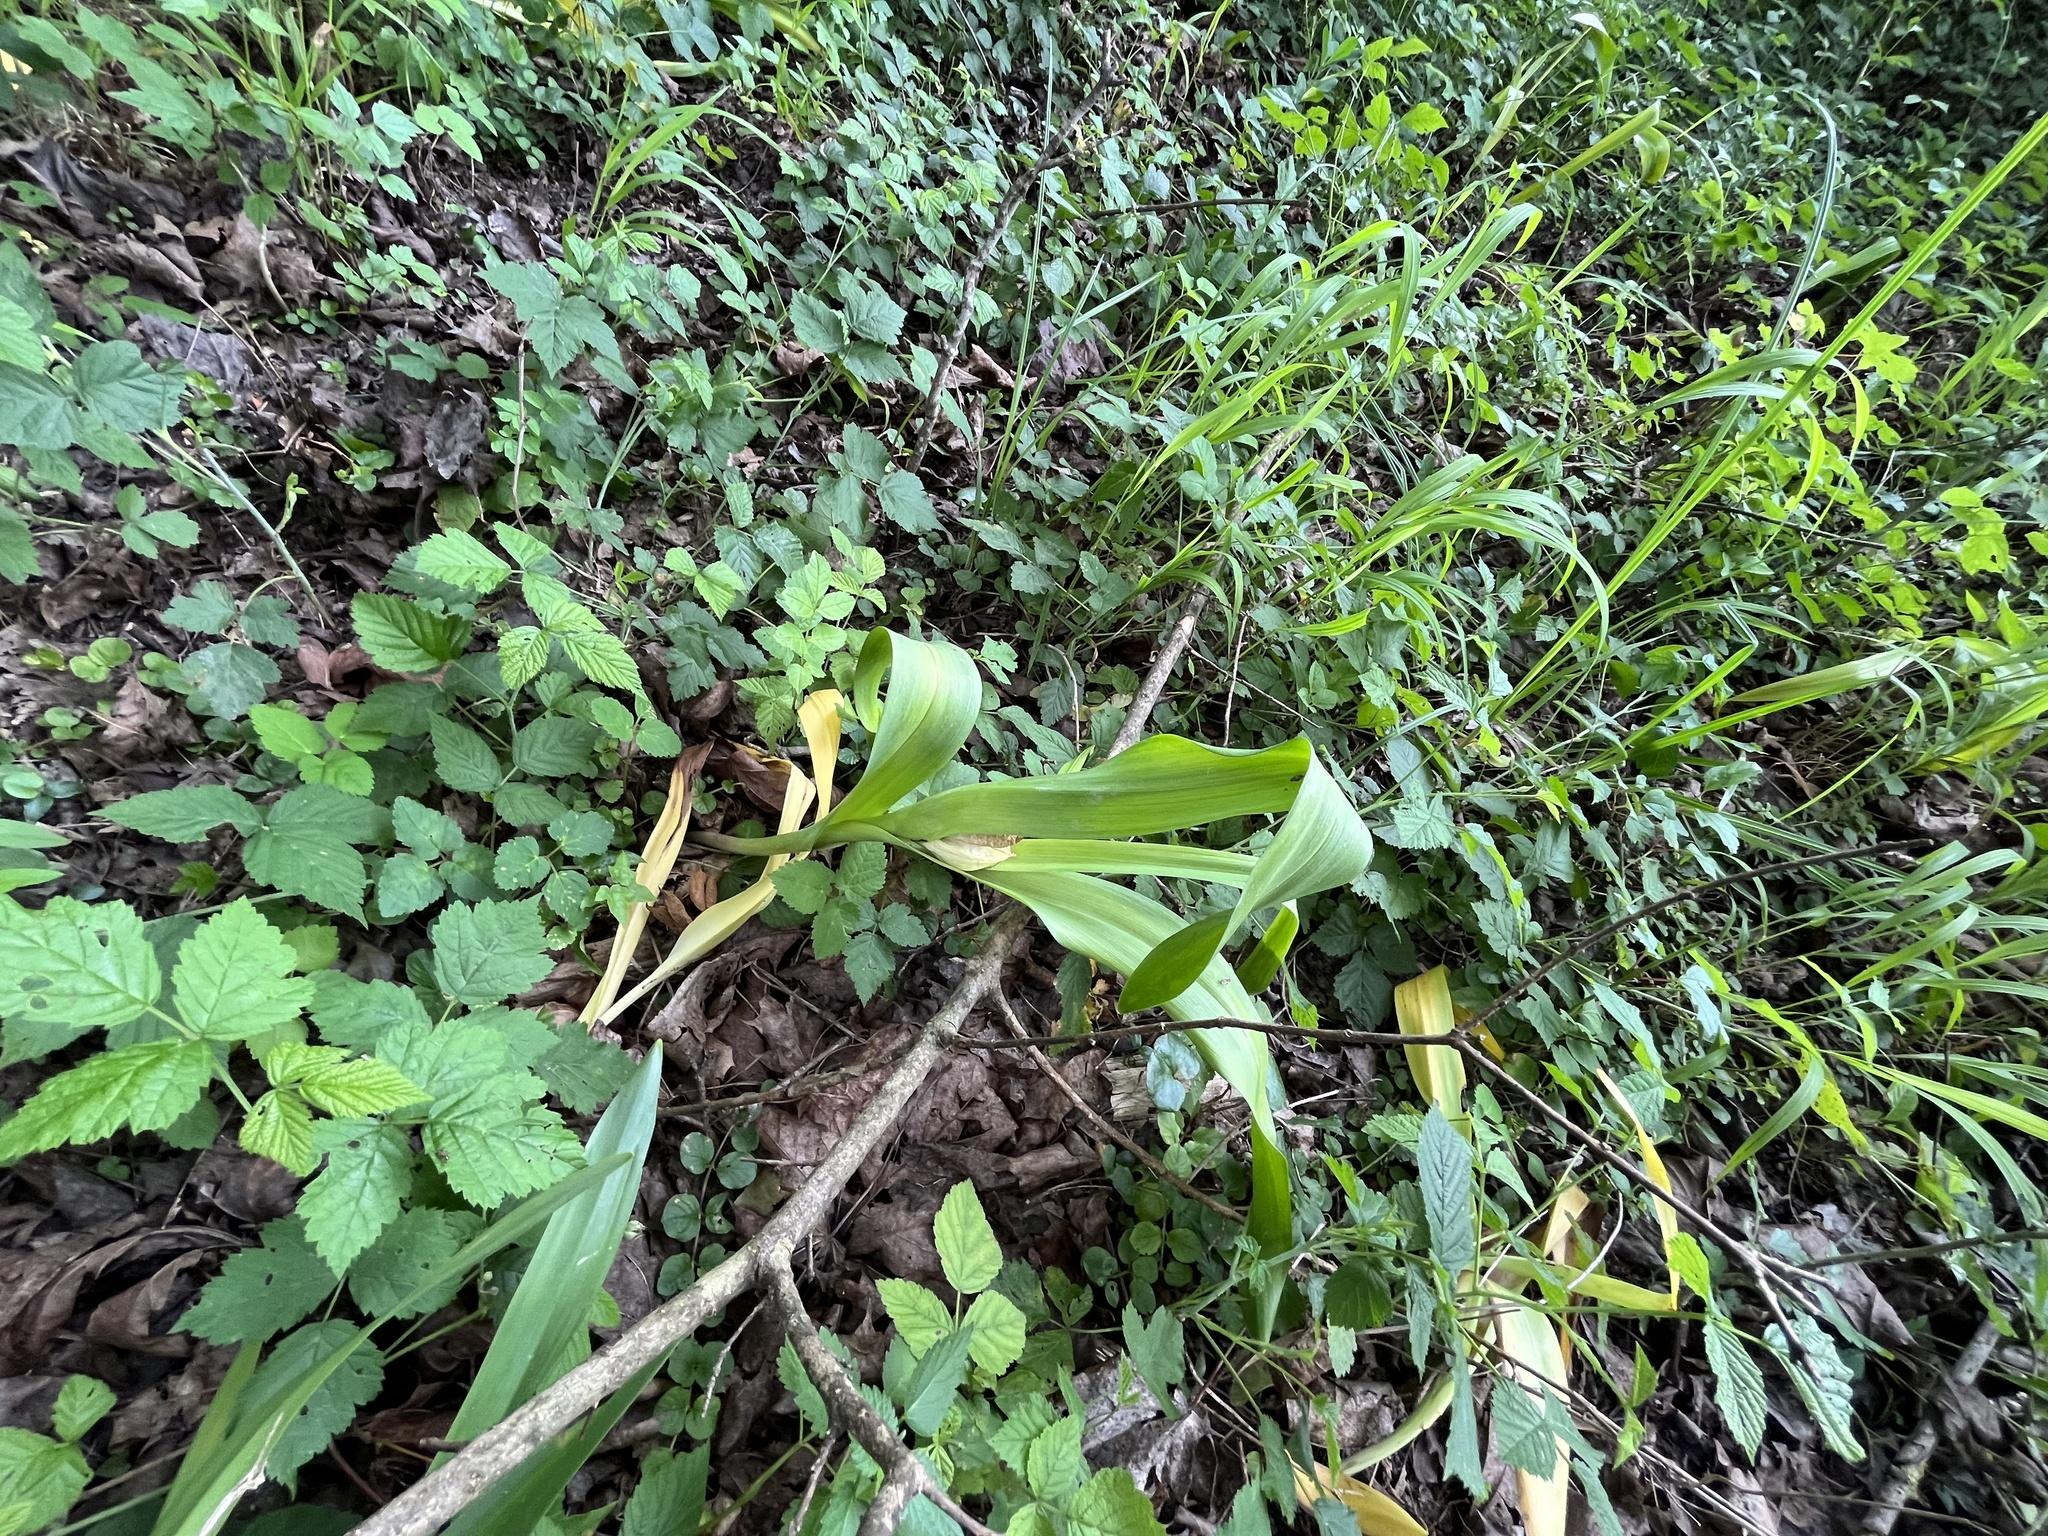Colchicum autumnale L: (663, 579, 1442, 1284)
